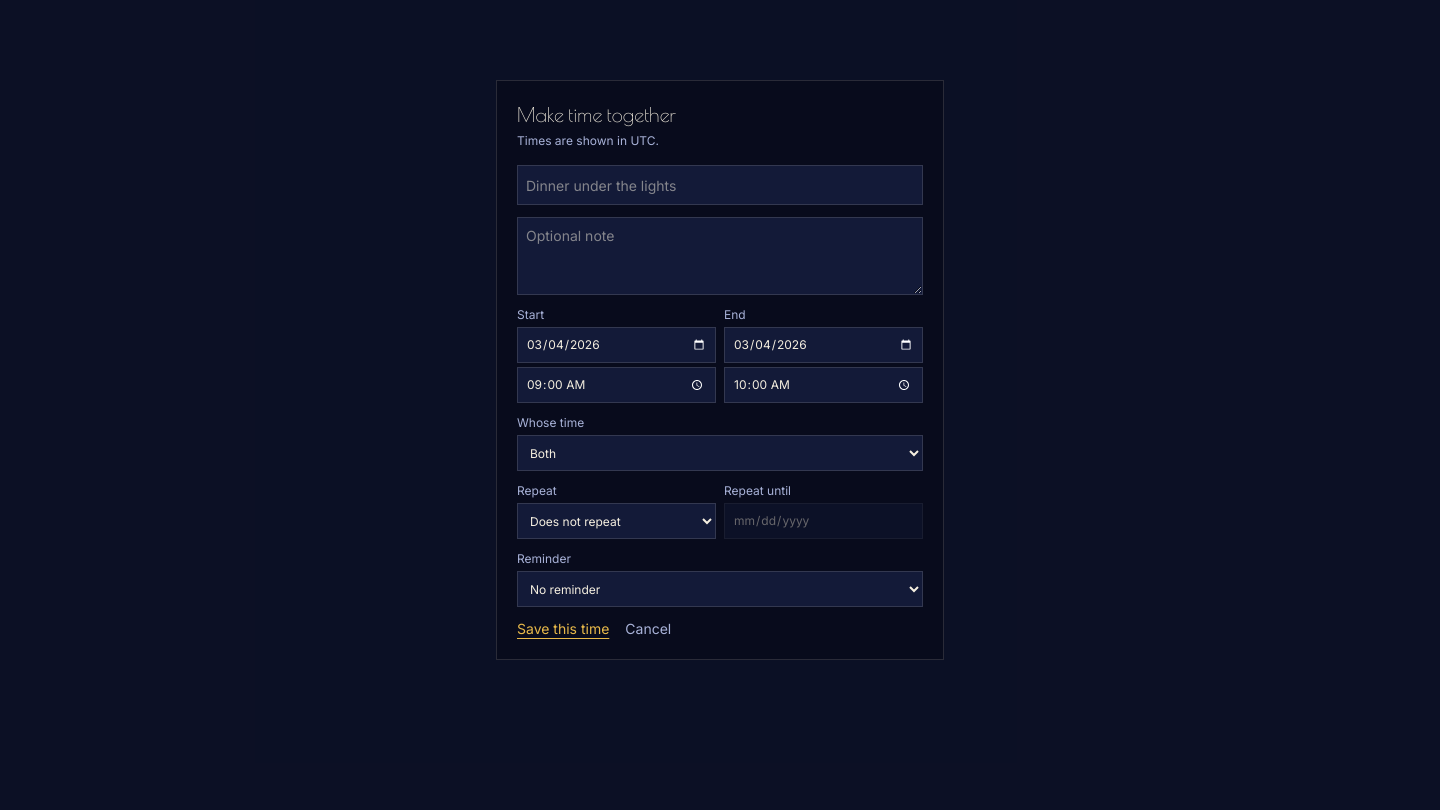
Test case: BlockEditor › sends an ISO block and shows the server's error
Type "Breakfast" into the field named "Title".
click(720, 185); type("Breakfast")  # box [517,165,923,205]
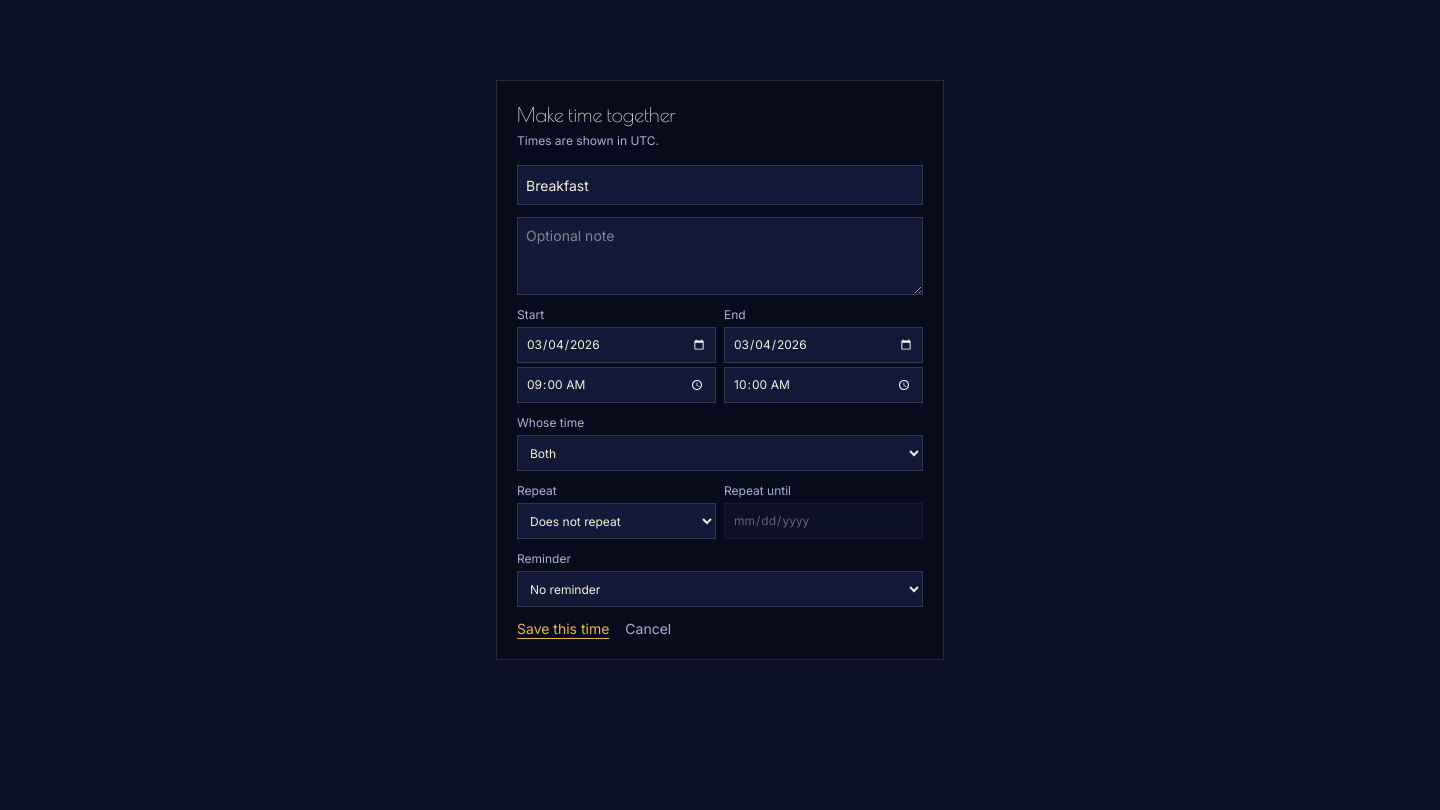
Submit the form "Save this time", box [517,165,923,639]
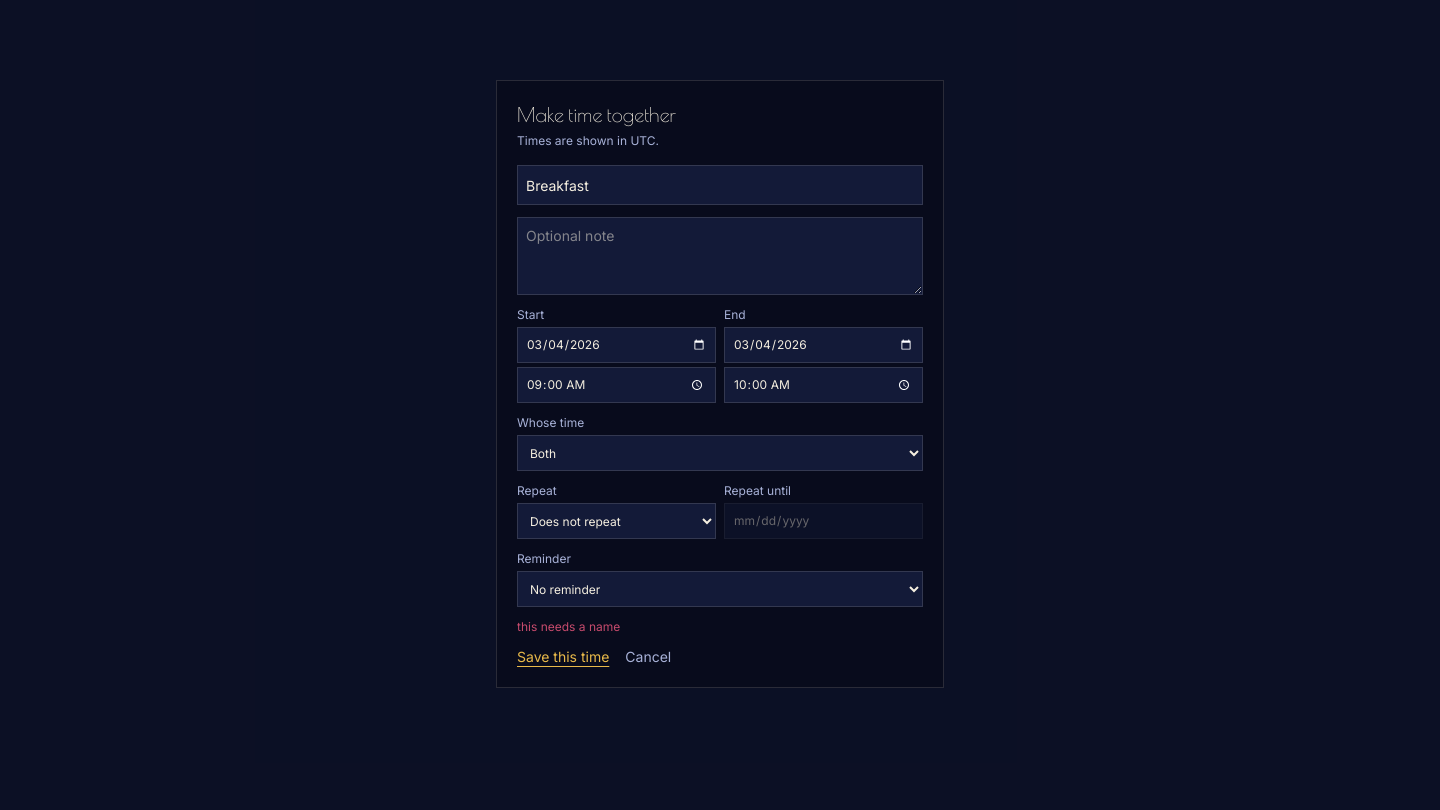
Expected: the message reads "this needs a name", [517,619,620,634]
